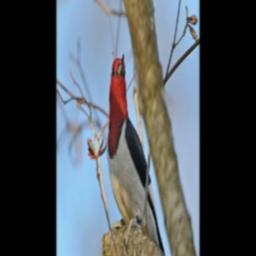Woodpecker: (104, 41, 169, 256)
